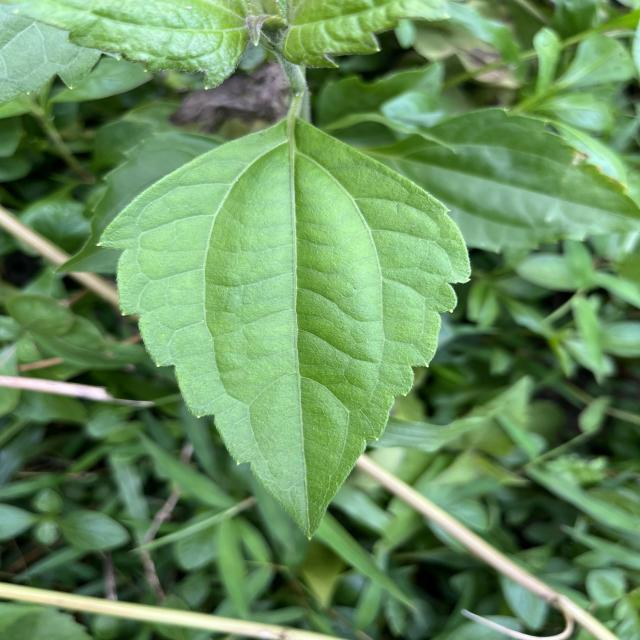Chromolaena odorata: (92, 109, 476, 547)
